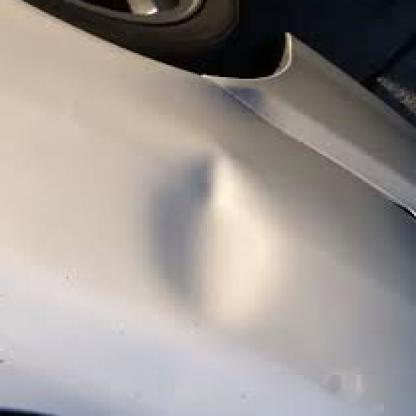dent: (132, 151, 276, 304), (304, 356, 375, 415), (214, 86, 280, 122)
